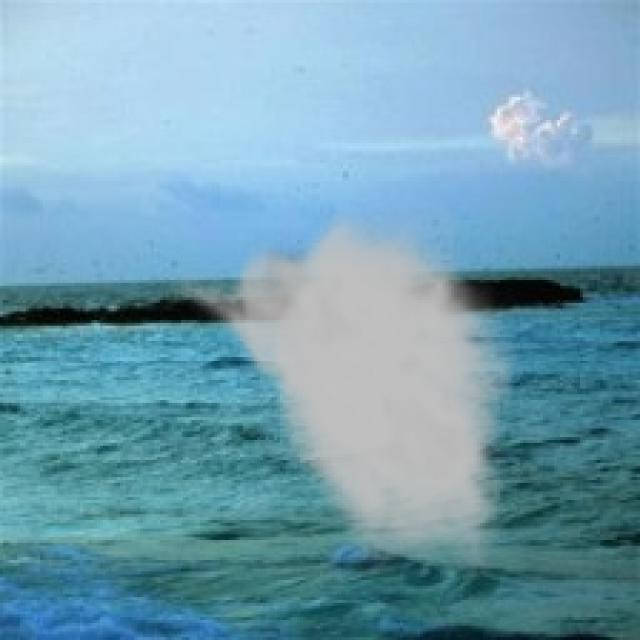Smoke: (165, 200, 520, 583)
